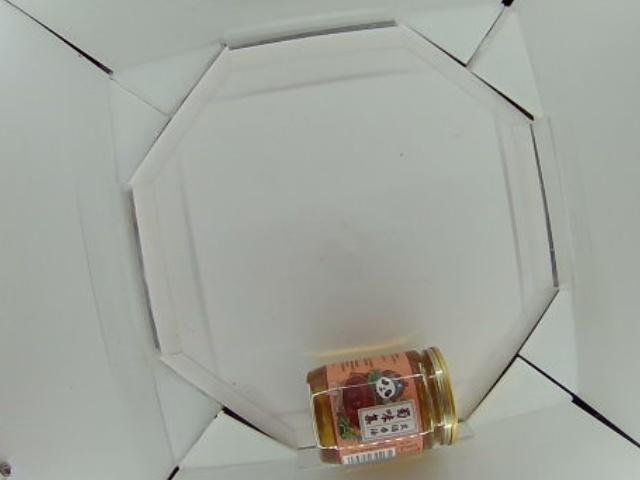Bottle: (303, 347, 459, 463)
